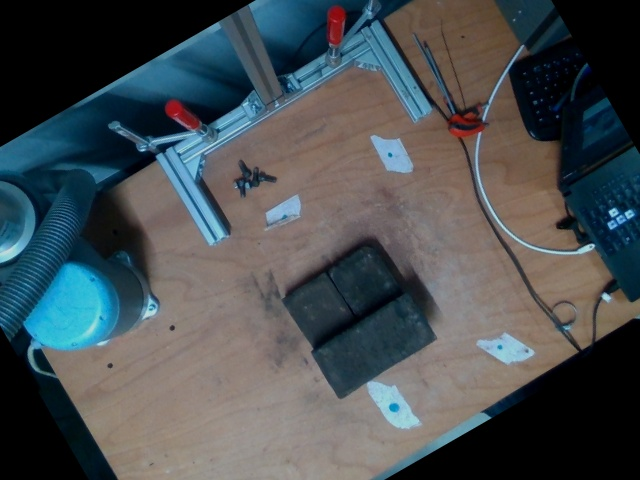brick: (312, 292, 434, 397)
